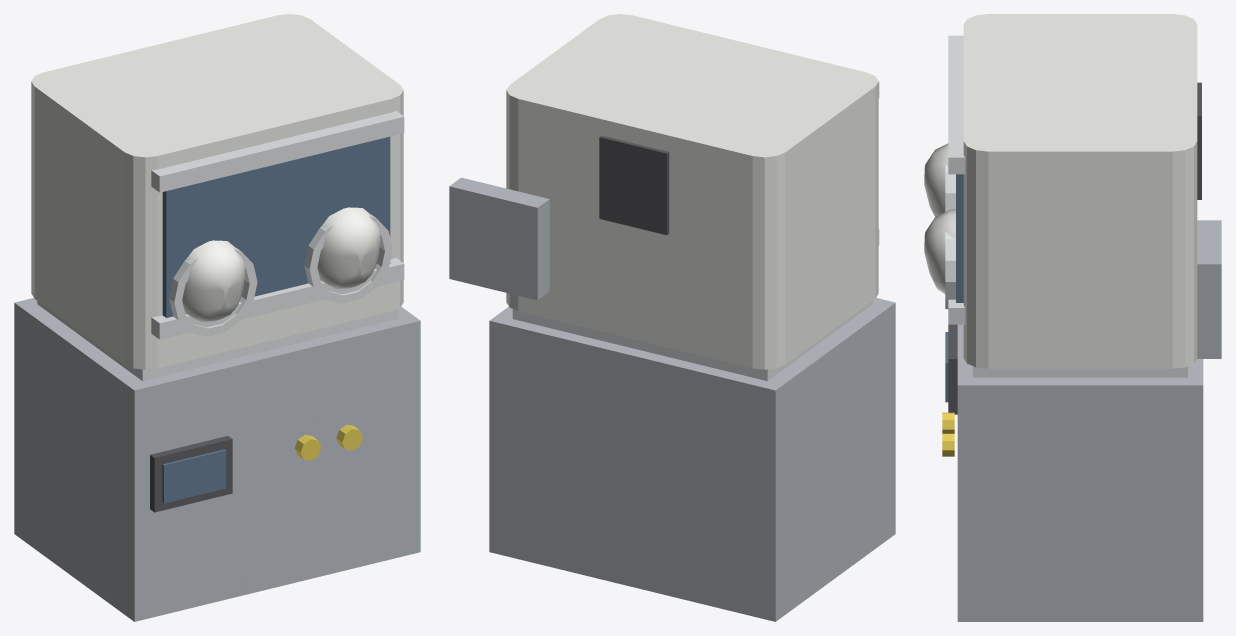
File: orbital-station-and-docking-bays-glovebox-1f1faa00__24575.glb
3 renders of one model, left to right at view 1: azimuth 30°, elevation 25°; view 2: azimuth 150°, elevation 25°; view 3: azimuth 270°, elevation 25°, orthographic. The views are drawn at different scales.
Visible parts, largest first — view 1: glovebox; view 2: glovebox; view 3: glovebox.
Boxes of the visible parts, x1,y1,x2,y2 form: glovebox: (14,14,420,621); glovebox: (449,14,895,621); glovebox: (924,14,1221,621).
Bounding box in the file's own units: 1.22 × 1.68 × 0.9688.
